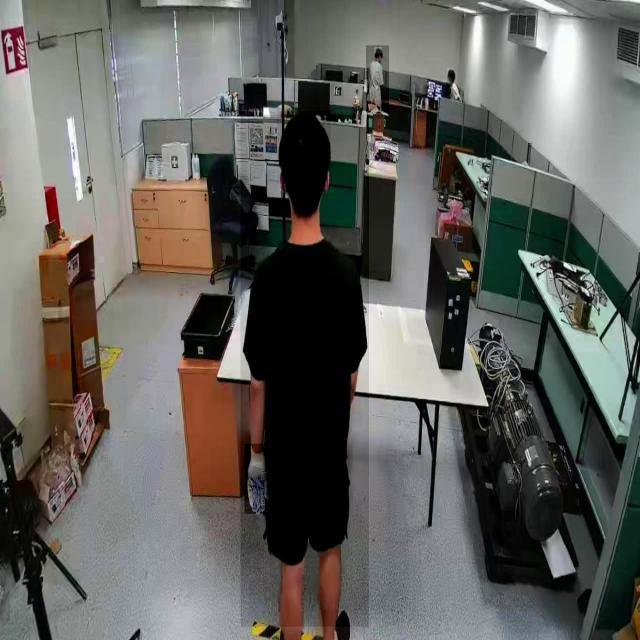gloves: (244, 444, 272, 514)
